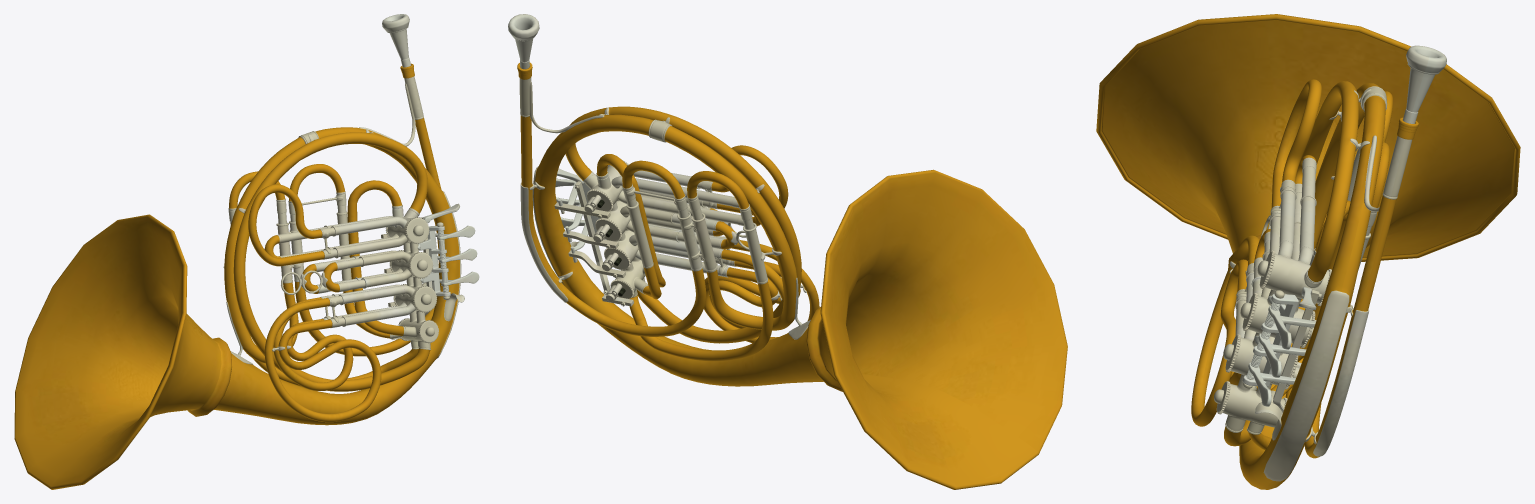
The model's file is mobile.d7e9e43496eb.glb.
3 views of the same model, side by side, from view 1: azimuth 30°, elevation 25°; view 2: azimuth 150°, elevation 25°; view 3: azimuth 270°, elevation 25° (orthographic). The views are drawn at different scales.
Parts seen in each view (by area): view 1: Object_20, Object_19, Object_18, Object_17, Object_21; view 2: Object_20, Object_18, Object_19, Object_17, Object_21, Object_3; view 3: Object_20, Object_18, Object_19, Object_17, Object_21.
Part boxes in pixels (left/top/right/bottom): Object_20: left=14, top=63, right=464, bottom=489; Object_19: left=264, top=222, right=449, bottom=422; Object_18: left=228, top=171, right=365, bottom=294; Object_17: left=288, top=14, right=459, bottom=243; Object_21: left=391, top=217, right=479, bottom=339; Object_20: left=517, top=62, right=1067, bottom=489; Object_18: left=672, top=145, right=788, bottom=249; Object_19: left=589, top=168, right=819, bottom=343; Object_17: left=508, top=14, right=688, bottom=217; Object_21: left=555, top=178, right=633, bottom=306; Object_3: left=554, top=200, right=625, bottom=296; Object_20: left=1096, top=14, right=1520, bottom=489; Object_18: left=1253, top=79, right=1392, bottom=278; Object_19: left=1191, top=235, right=1284, bottom=426; Object_17: left=1260, top=45, right=1446, bottom=310; Object_21: left=1248, top=289, right=1321, bottom=412.
Bounding box in the file's own units: 16.55 × 12.37 × 9.56.
Materials: 1 (1 with a texture image).
